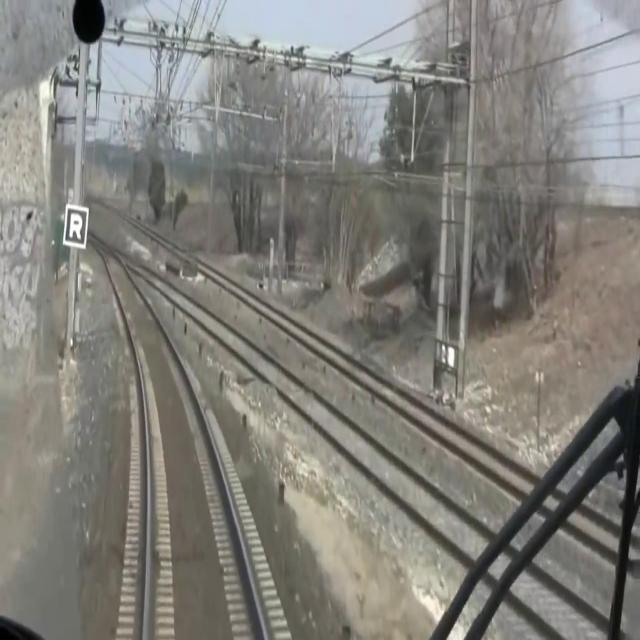rail-track: (89, 233, 263, 639)
